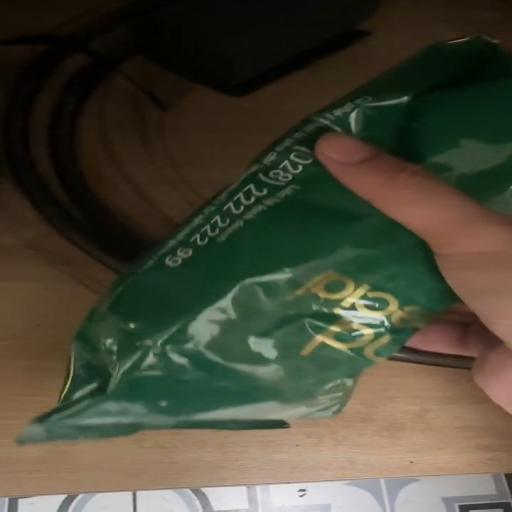cafe_xay: (18, 38, 511, 443)
